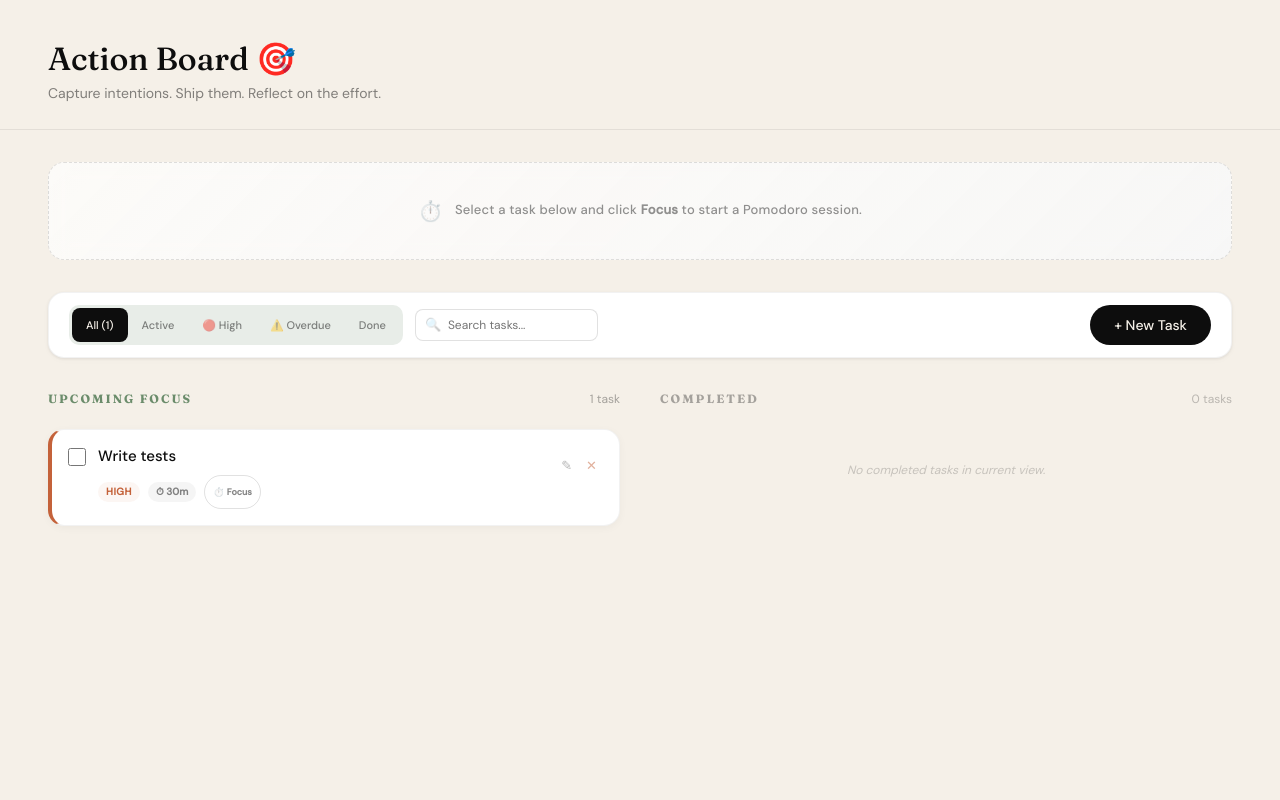
it: switching presets mid-session asks first
Click the button "⏱️ Focus": point(233, 492) [204,475,261,509]
Wait 90000 ms
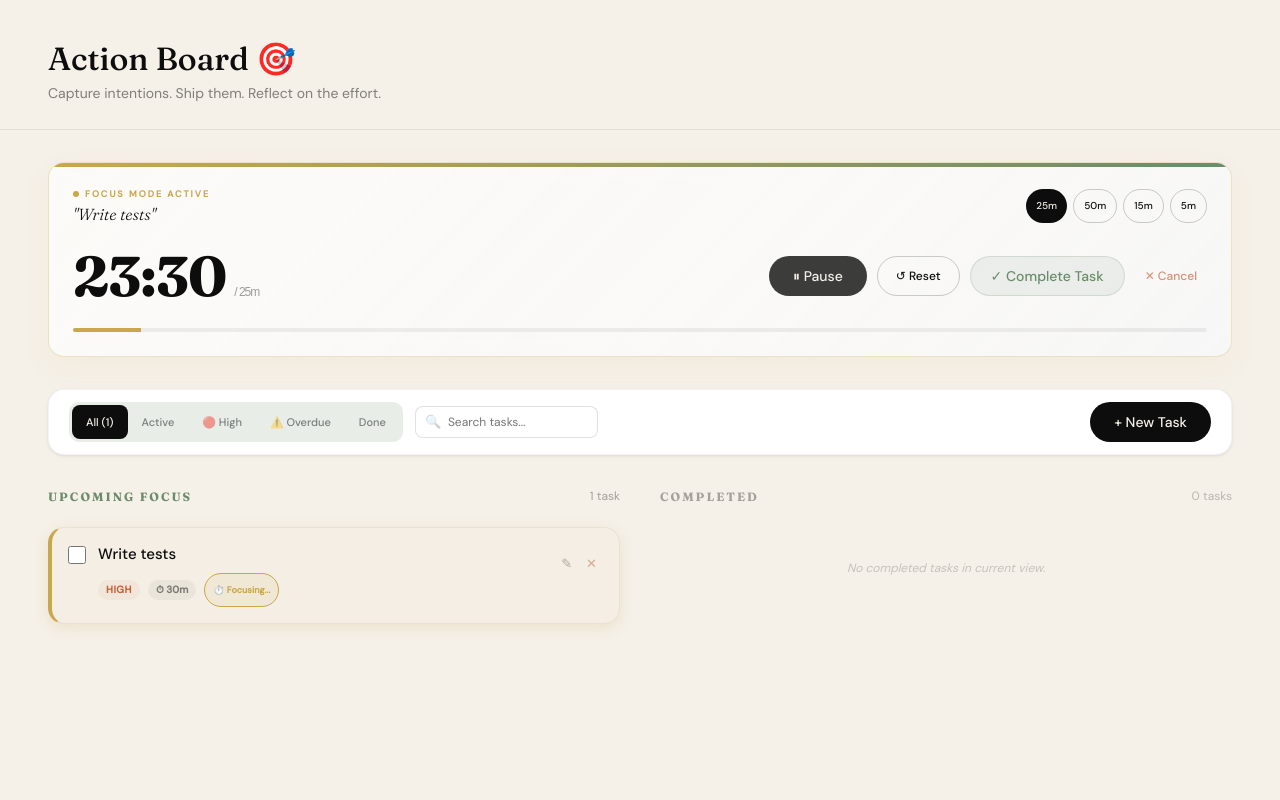
Check: the text "23:30" is shown, box [73,241,226,310]
Click the button "50m": point(1095, 206) [1073,189,1117,223]
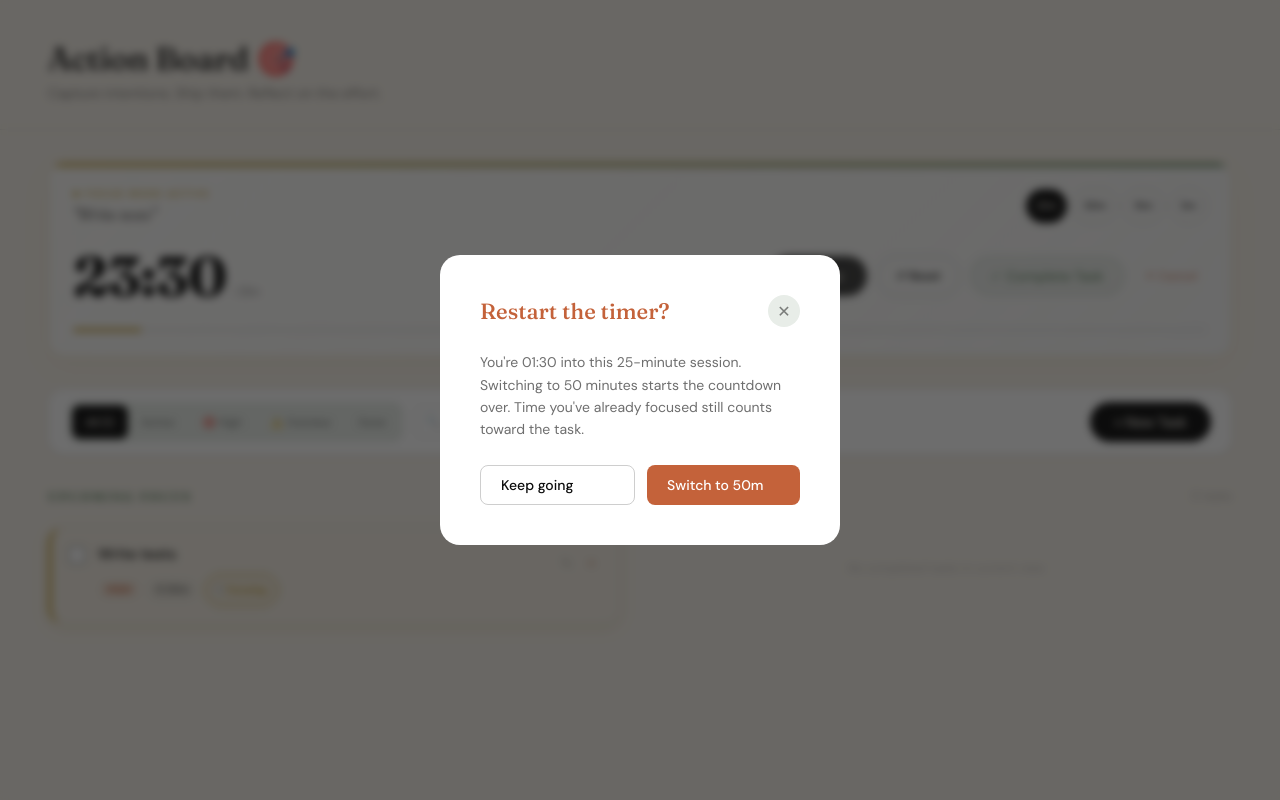
Check: the heading "Restart the timer?" is shown, box [480,298,670,324]
Click the button "Keep going": point(558, 485) [480,465,635,505]
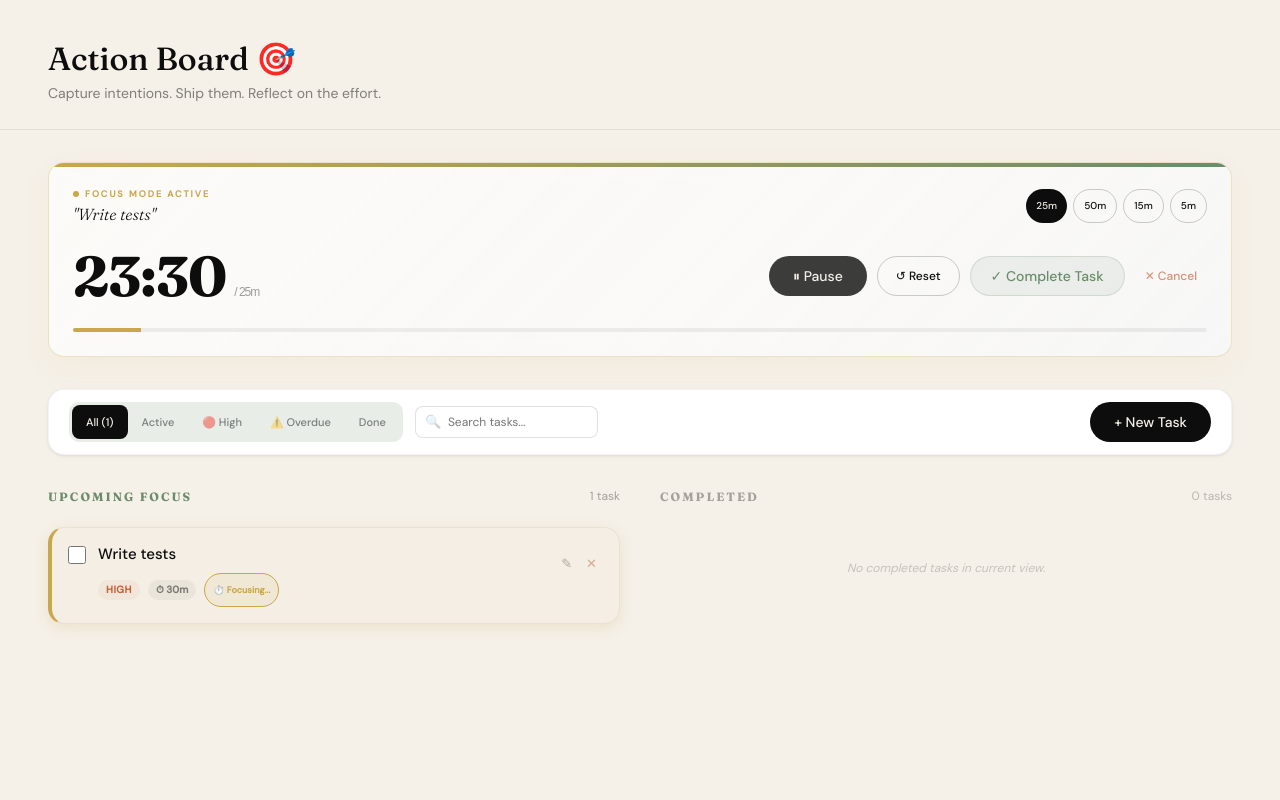
Check: the text "23:30" is shown, box [73,241,226,310]
Click the button "50m": point(1095, 206) [1073,189,1117,223]
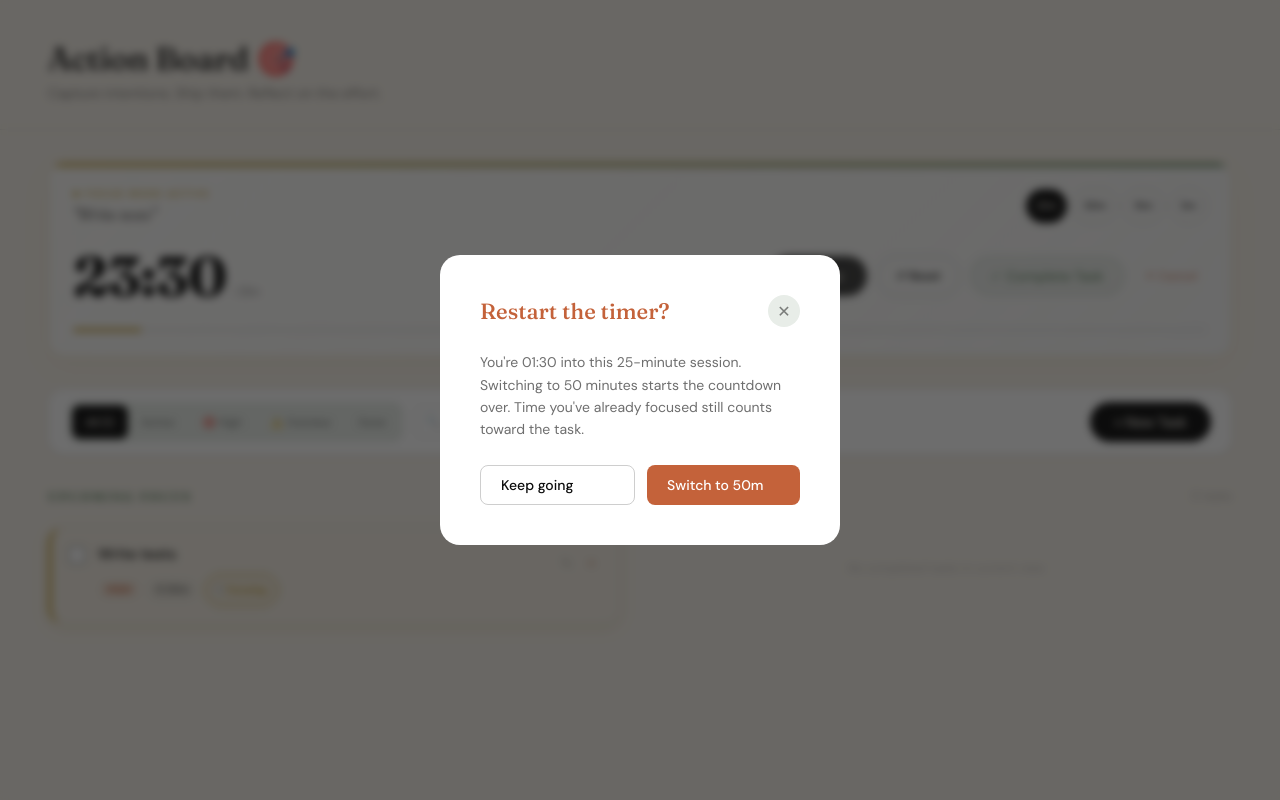
Click the button "Switch to 50m": point(724, 485) [647,465,800,505]
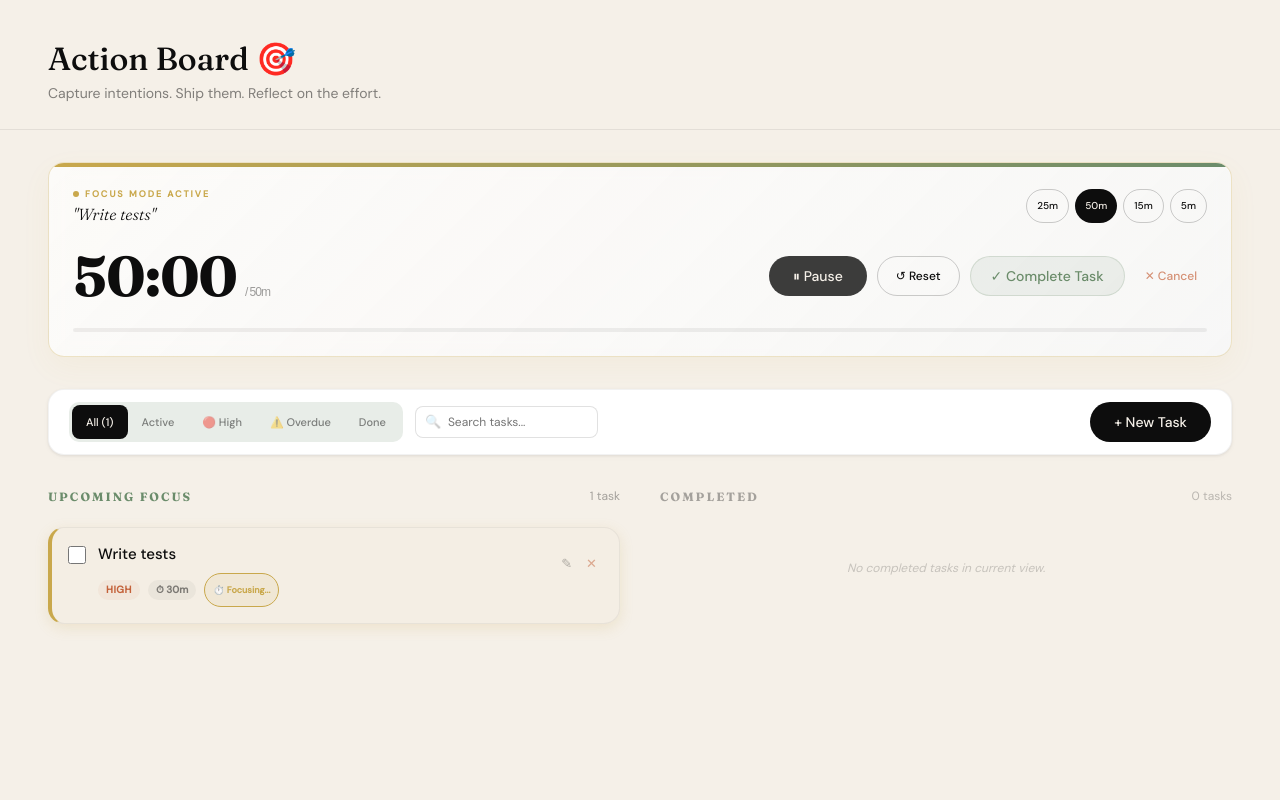
Check: the text "50:00" is shown, box [73,241,237,310]
